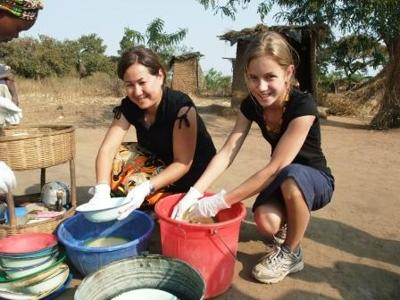person: (172, 29, 336, 283)
